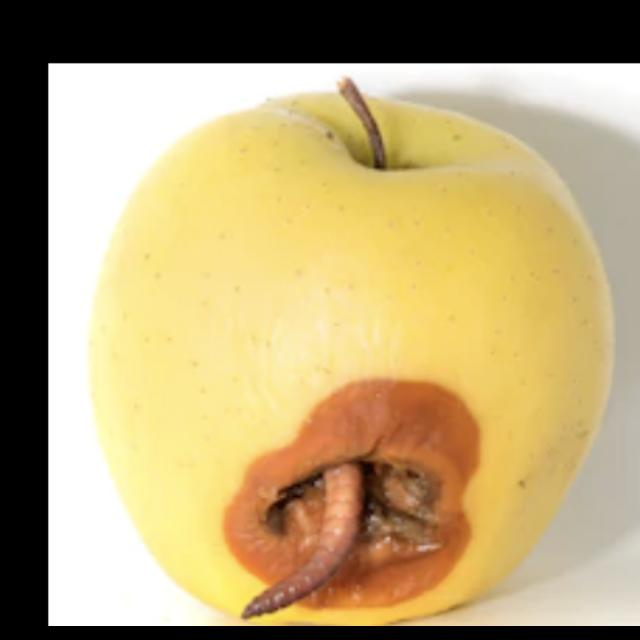Apel Tidak Segar: (102, 100, 612, 622)
